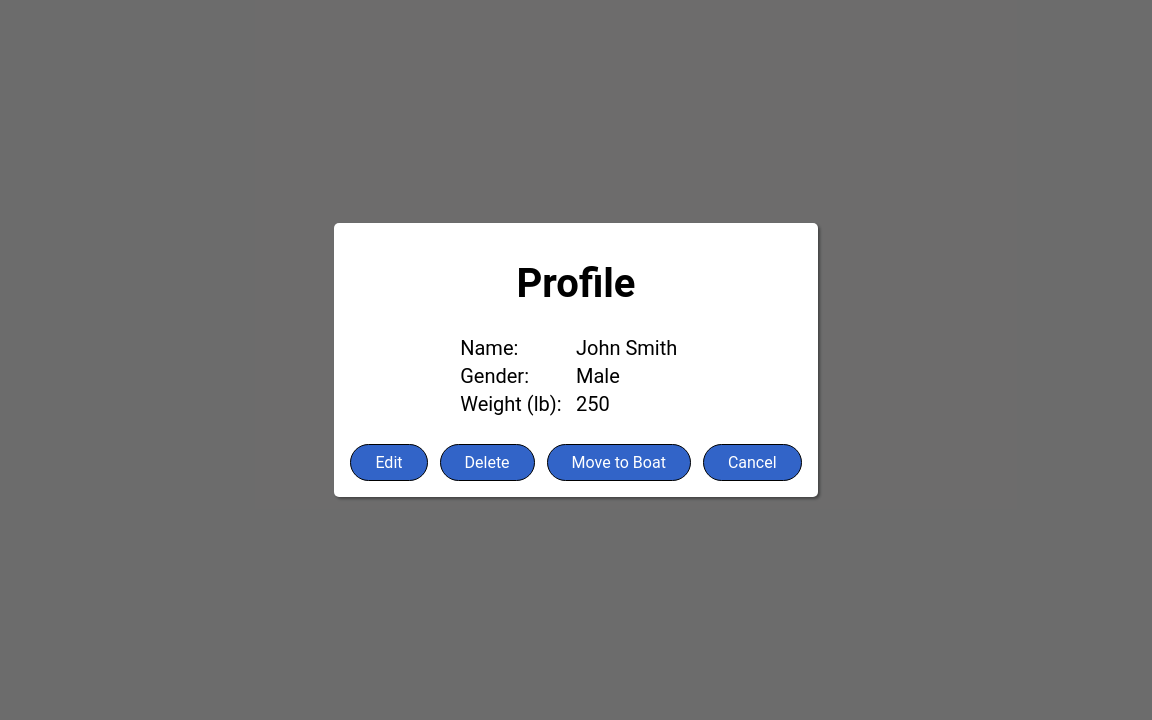
Scenario: paddler edit behavior › displays paddler form pre-filled with paddler info when edit button is clicked on
Click the button "Edit" at (389, 462), box top-left (350, 444), bottom-right (428, 481)
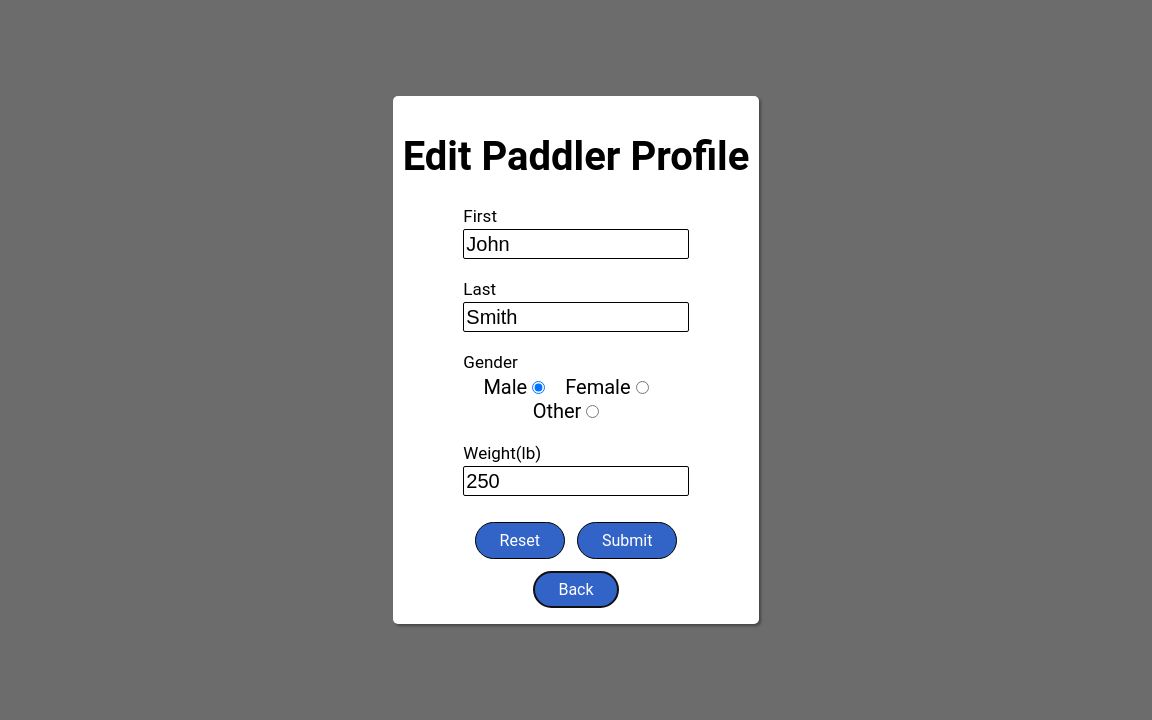
Result: the form with test id "paddlerForm" is shown at top-left (463, 206), bottom-right (689, 565)
Result: the field labelled "First" holds "John" at top-left (463, 229), bottom-right (689, 259)
Result: the field labelled "Last" holds "Smith" at top-left (463, 302), bottom-right (689, 332)
